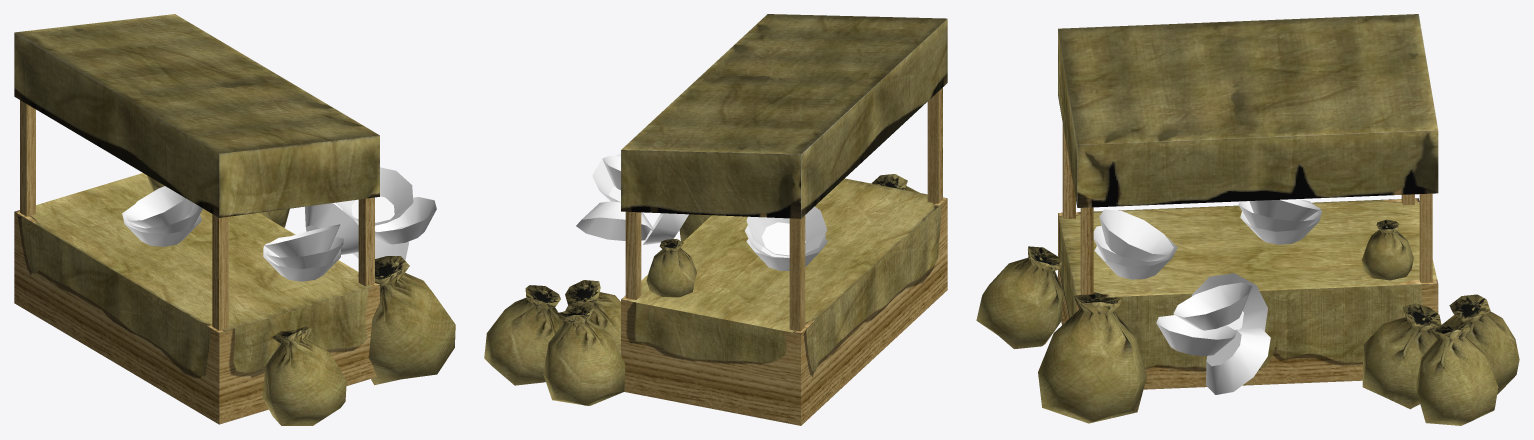
Rendered from store09.fbx.
3 renders of one model, left to right at view 1: azimuth 30°, elevation 25°; view 2: azimuth 150°, elevation 25°; view 3: azimuth 270°, elevation 25°, orthographic. The views are drawn at different scales.
Visible parts, largest first — view 1: stand_6, bag_76, bag_79, bowl_51, bowl_58, bowl_52, bowl_53, bowl_57, bowl_60, bowl_59, bowl_55, bowl_56 (+1 smaller); view 2: stand_6, bag_77, bag_75, bag_80, bowl_58, bag_78, bowl_54, bowl_53, bowl_52, bowl_55, bag_76, bag_79; view 3: stand_6, bag_76, bag_79, bag_75, bag_78, bag_77, bowl_54, bowl_57, bowl_51, bag_80, bowl_52, bowl_53 (+5 smaller).
Part boxes in pixels (box(x1,y1,x2,y2)): stand_6: box(14, 14, 379, 424); bag_76: box(369, 256, 455, 385); bag_79: box(262, 326, 346, 425); bowl_51: box(336, 167, 413, 225); bowl_58: box(126, 186, 192, 228); bowl_52: box(375, 197, 436, 244); bowl_53: box(305, 203, 358, 254); bowl_57: box(264, 224, 340, 257); bowl_60: box(266, 237, 343, 268); bowl_59: box(263, 236, 340, 281); bowl_55: box(122, 205, 201, 246); bowl_56: box(128, 203, 202, 234); stand_6: box(621, 14, 947, 425); bag_77: box(543, 307, 625, 405); bag_75: box(484, 285, 563, 385); bag_80: box(646, 239, 696, 297); bowl_58: box(746, 206, 827, 256); bag_78: box(563, 280, 620, 354); bowl_54: box(576, 201, 653, 240); bowl_53: box(643, 213, 688, 244); bowl_52: box(592, 153, 620, 202); bowl_55: box(746, 238, 827, 270); bag_76: box(679, 214, 711, 241); bag_79: box(871, 174, 919, 192); stand_6: box(1058, 14, 1438, 389); bag_76: box(1038, 292, 1146, 423); bag_79: box(976, 246, 1063, 349); bag_75: box(1415, 324, 1498, 425); bag_78: box(1362, 303, 1441, 409); bag_77: box(1442, 294, 1519, 394); bowl_54: box(1206, 328, 1270, 394); bowl_57: box(1099, 209, 1173, 261); bowl_51: box(1173, 282, 1251, 330); bag_80: box(1362, 219, 1413, 280); bowl_52: box(1156, 315, 1236, 356); bowl_53: box(1191, 273, 1267, 331).
Size of the model in its own units: 67.03 by 58.25 by 98.88.
